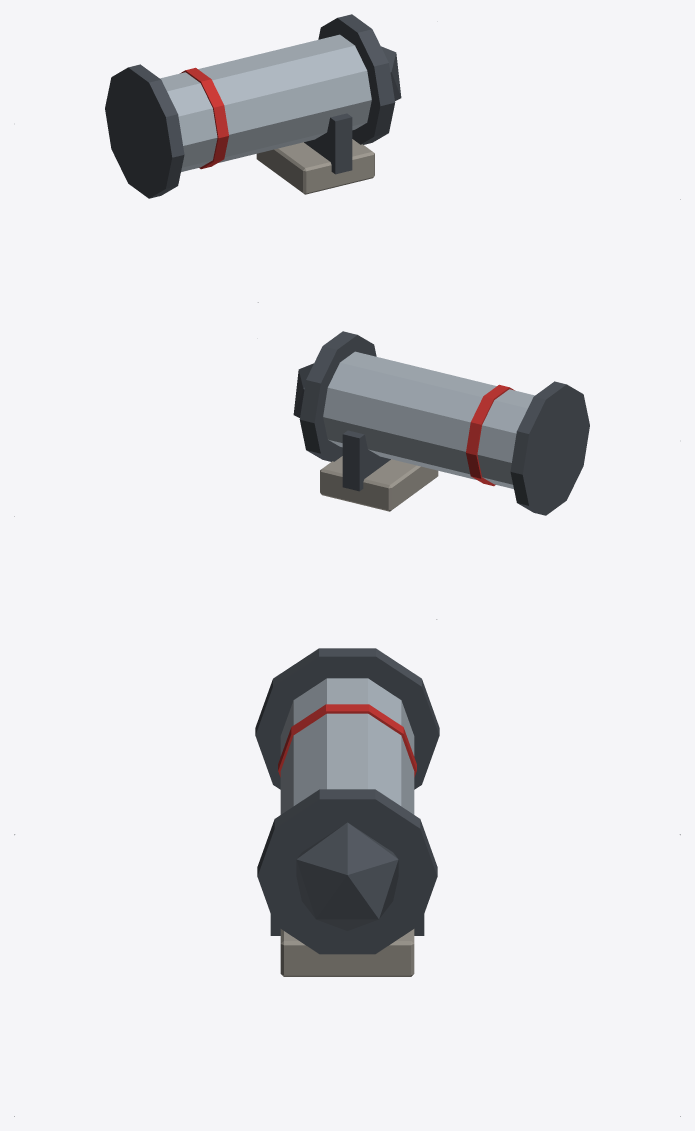
The model's file is tuyau_bout_t3.glb.
The picture shows the model from 3 angles, top to bottom: view 1: azimuth 30°, elevation 25°; view 2: azimuth 150°, elevation 25°; view 3: azimuth 270°, elevation 25°; orthographic projection. The views are drawn at different scales.
Visible parts, largest first — view 1: pieces_inox.014, pieces_acier_sombre.050, pieces_beton.030, pieces_rive_t3.014; view 2: pieces_inox.014, pieces_acier_sombre.050, pieces_beton.030, pieces_rive_t3.014; view 3: pieces_acier_sombre.050, pieces_inox.014, pieces_beton.030, pieces_rive_t3.014.
Boxes of the visible parts, x1=… form: pieces_inox.014: x1=160, y1=34, x2=371, y2=171; pieces_acier_sombre.050: x1=105, y1=14, x2=401, y2=198; pieces_beton.030: x1=256, y1=139, x2=374, y2=194; pieces_rive_t3.014: x1=180, y1=67, x2=228, y2=169; pieces_inox.014: x1=323, y1=351, x2=534, y2=488; pieces_acier_sombre.050: x1=293, y1=331, x2=589, y2=515; pieces_beton.030: x1=320, y1=456, x2=438, y2=511; pieces_rive_t3.014: x1=466, y1=384, x2=514, y2=486; pieces_acier_sombre.050: x1=255, y1=648, x2=439, y2=954; pieces_inox.014: x1=280, y1=678, x2=414, y2=814; pieces_beton.030: x1=280, y1=929, x2=414, y2=976; pieces_rive_t3.014: x1=278, y1=704, x2=416, y2=777.
Size of the model in its own units: 1 by 0.3112 by 1.
